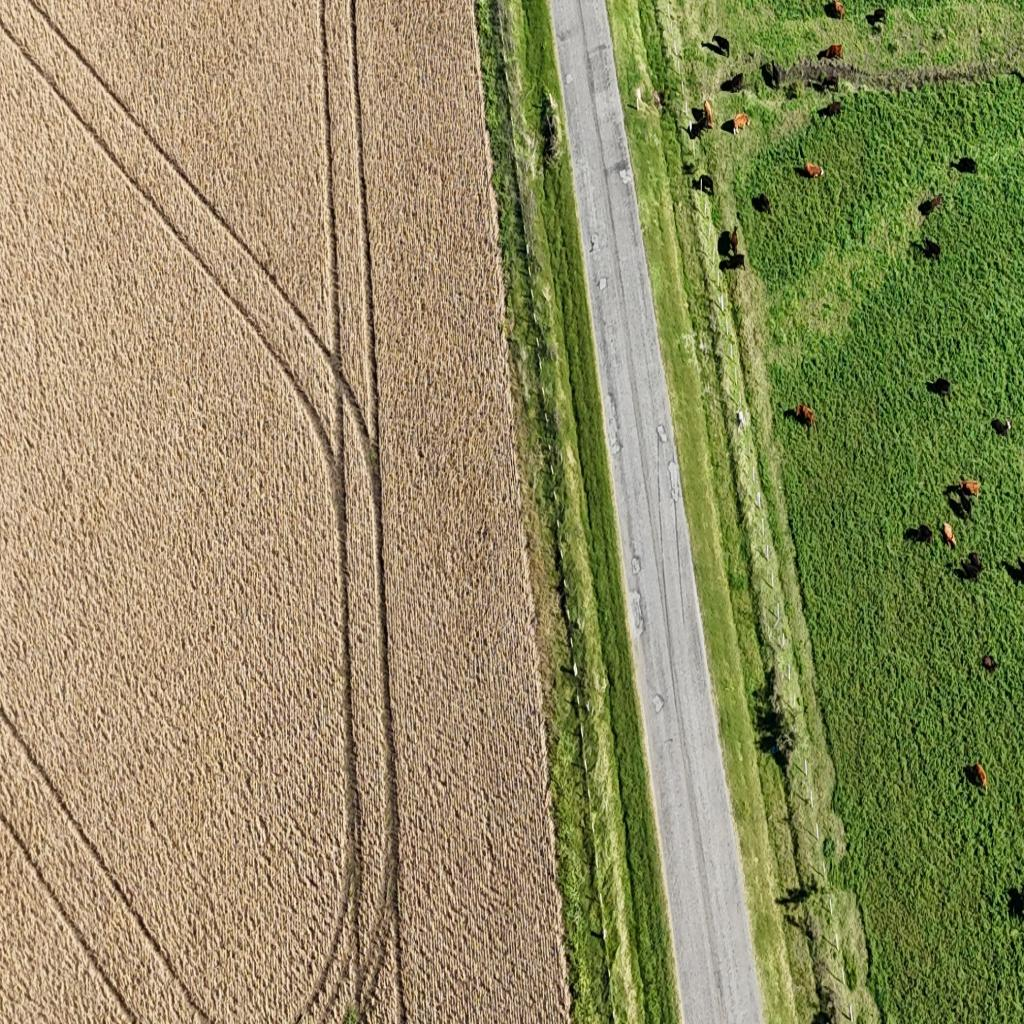cow: (901, 524, 932, 548), (955, 559, 984, 583), (966, 762, 988, 792), (1002, 555, 1024, 585), (794, 402, 816, 430), (918, 195, 943, 217), (927, 377, 951, 399), (762, 60, 779, 90), (967, 548, 988, 572), (920, 238, 941, 261), (721, 72, 744, 92), (694, 174, 714, 196), (732, 111, 751, 134), (992, 417, 1012, 438), (723, 253, 745, 272), (941, 522, 956, 549), (866, 6, 886, 26), (821, 101, 843, 119), (959, 493, 974, 519), (952, 157, 976, 173), (820, 44, 844, 60), (752, 193, 771, 213), (825, 0, 845, 19), (819, 74, 840, 92), (702, 99, 714, 130), (803, 161, 823, 179), (961, 477, 981, 495), (702, 37, 721, 55), (713, 35, 729, 56), (692, 104, 709, 122), (730, 226, 739, 256), (982, 653, 996, 672), (652, 88, 663, 111)
